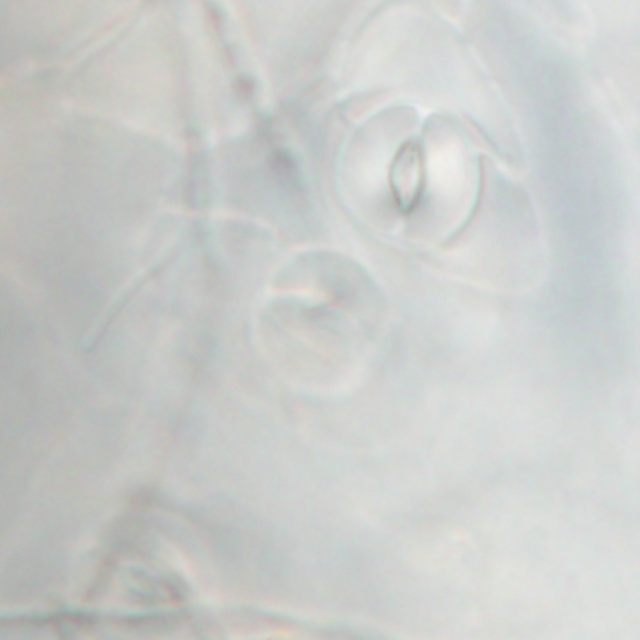center: (288, 296, 353, 354), (112, 561, 178, 609), (389, 138, 425, 212)
stomata-huw1: (58, 509, 223, 639), (335, 103, 481, 249), (248, 249, 388, 398)
